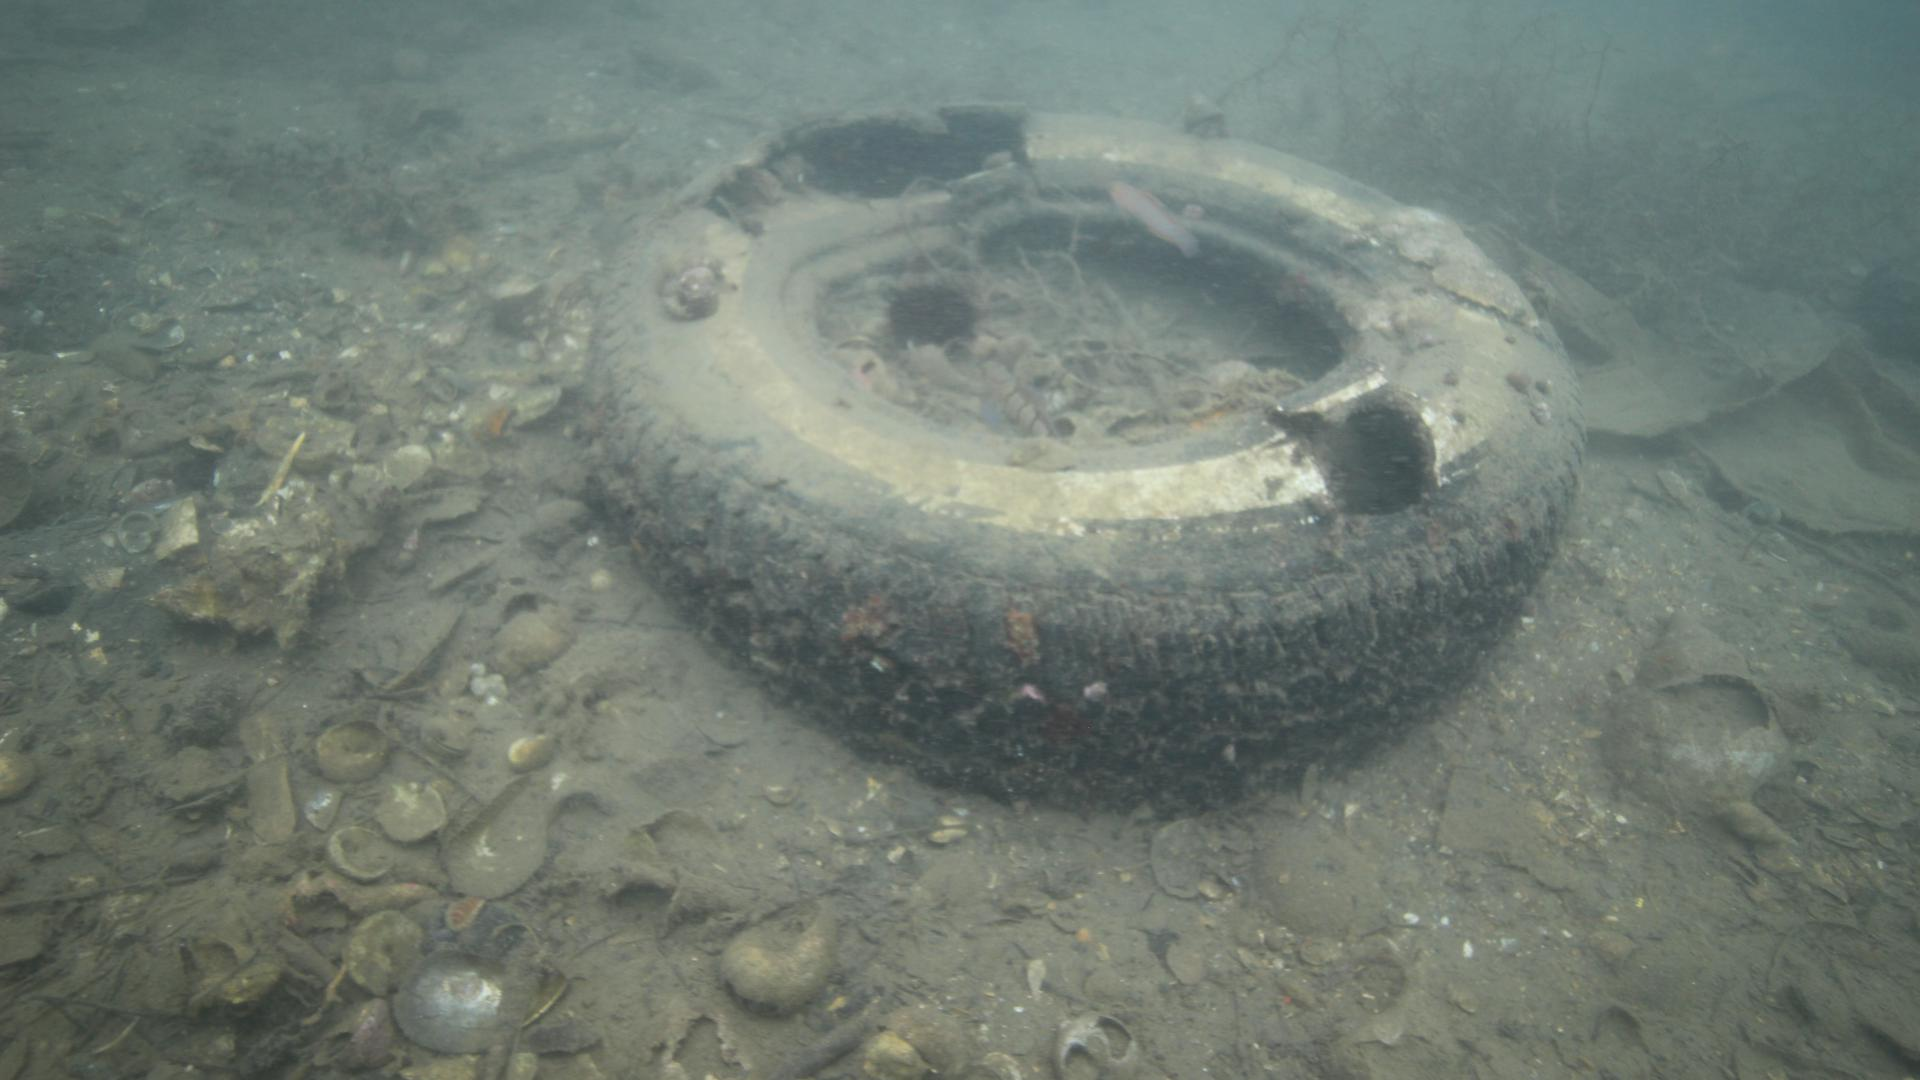tire: (571, 98, 1582, 818)
